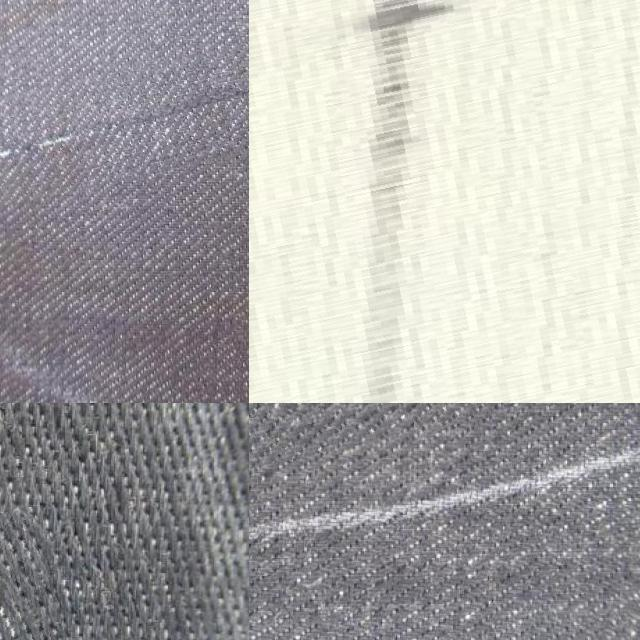Thread_other: (249, 0, 640, 403), (0, 29, 249, 191), (249, 403, 640, 457), (0, 514, 61, 640)
